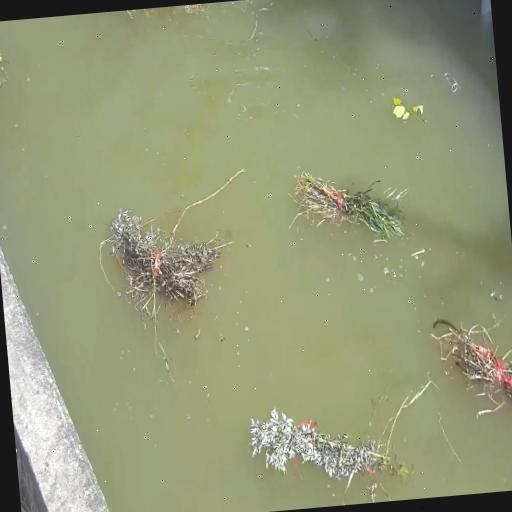twig: (234, 392, 418, 497), (92, 200, 228, 338), (276, 162, 419, 266), (437, 310, 512, 432), (384, 82, 432, 136), (0, 43, 16, 102)
